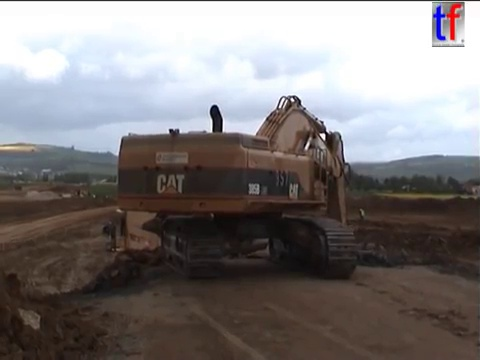excavator: (113, 91, 361, 281), (67, 186, 95, 203)
truck: (100, 205, 271, 285), (13, 181, 25, 192)
worker: (356, 204, 368, 223)
